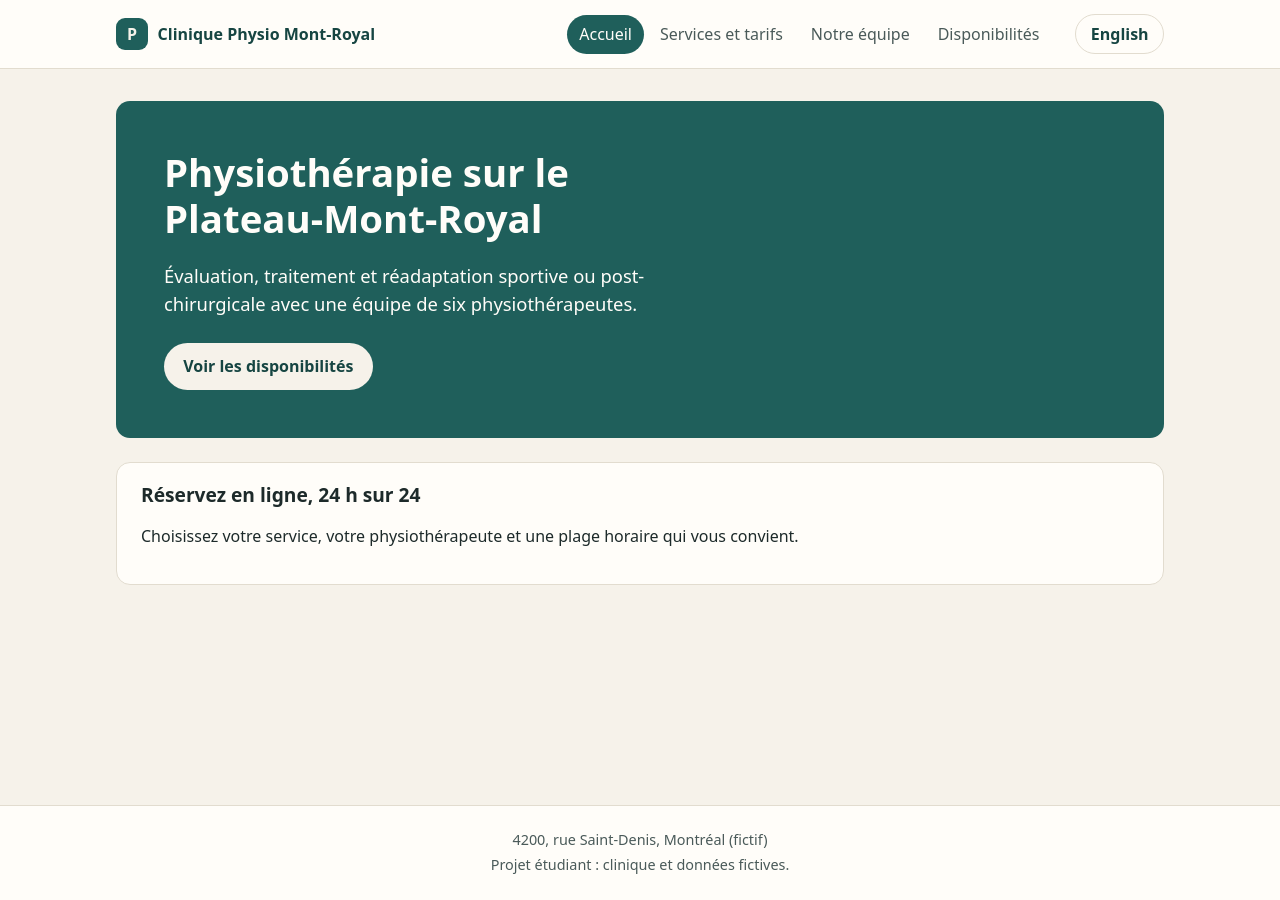
layout and language (NFR-10) › switches to English and back
The image size is (1280, 900).
Click the button with aria-label "Switch to English". click: click(1120, 34)
box: [1075, 14, 1164, 54]
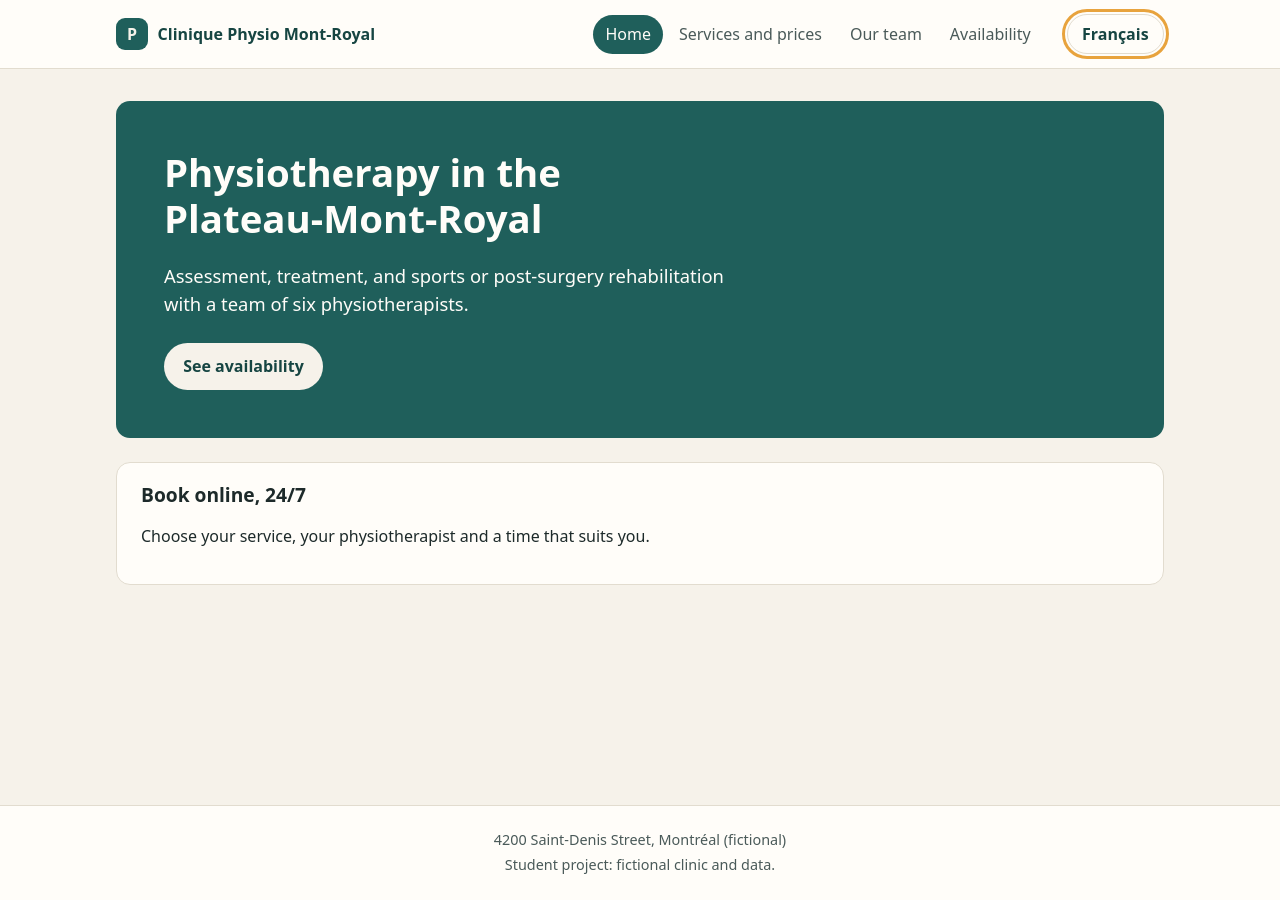
Check: the heading "Physiotherapy in the Plateau-Mont-Royal" is shown, box [164, 146, 561, 244]
Click the button with aria-label "Passer en français". click: click(1115, 34)
box: [1067, 14, 1164, 54]
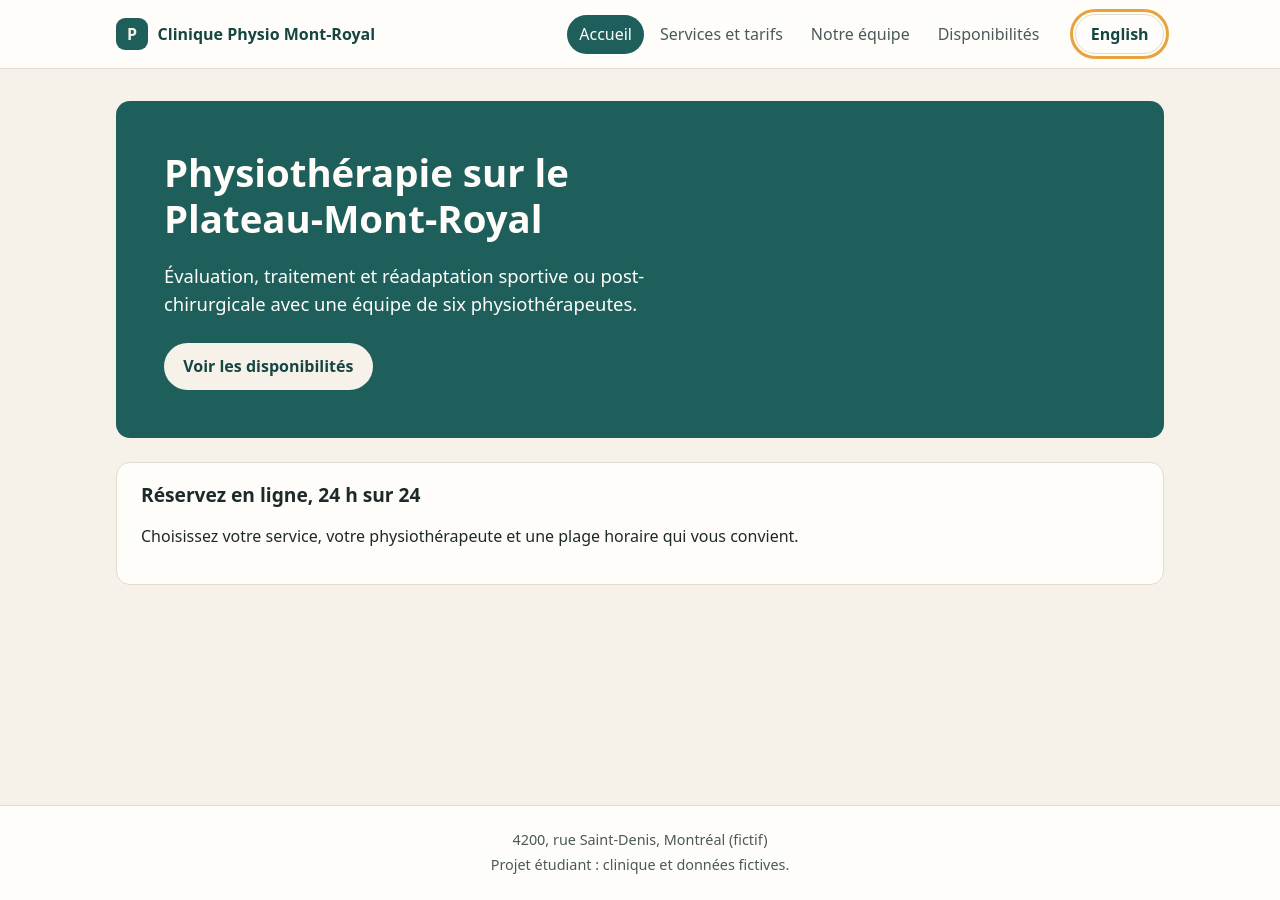
Check: the heading "Physiothérapie sur le Plateau-Mont-Royal" is shown, box [164, 146, 569, 244]
